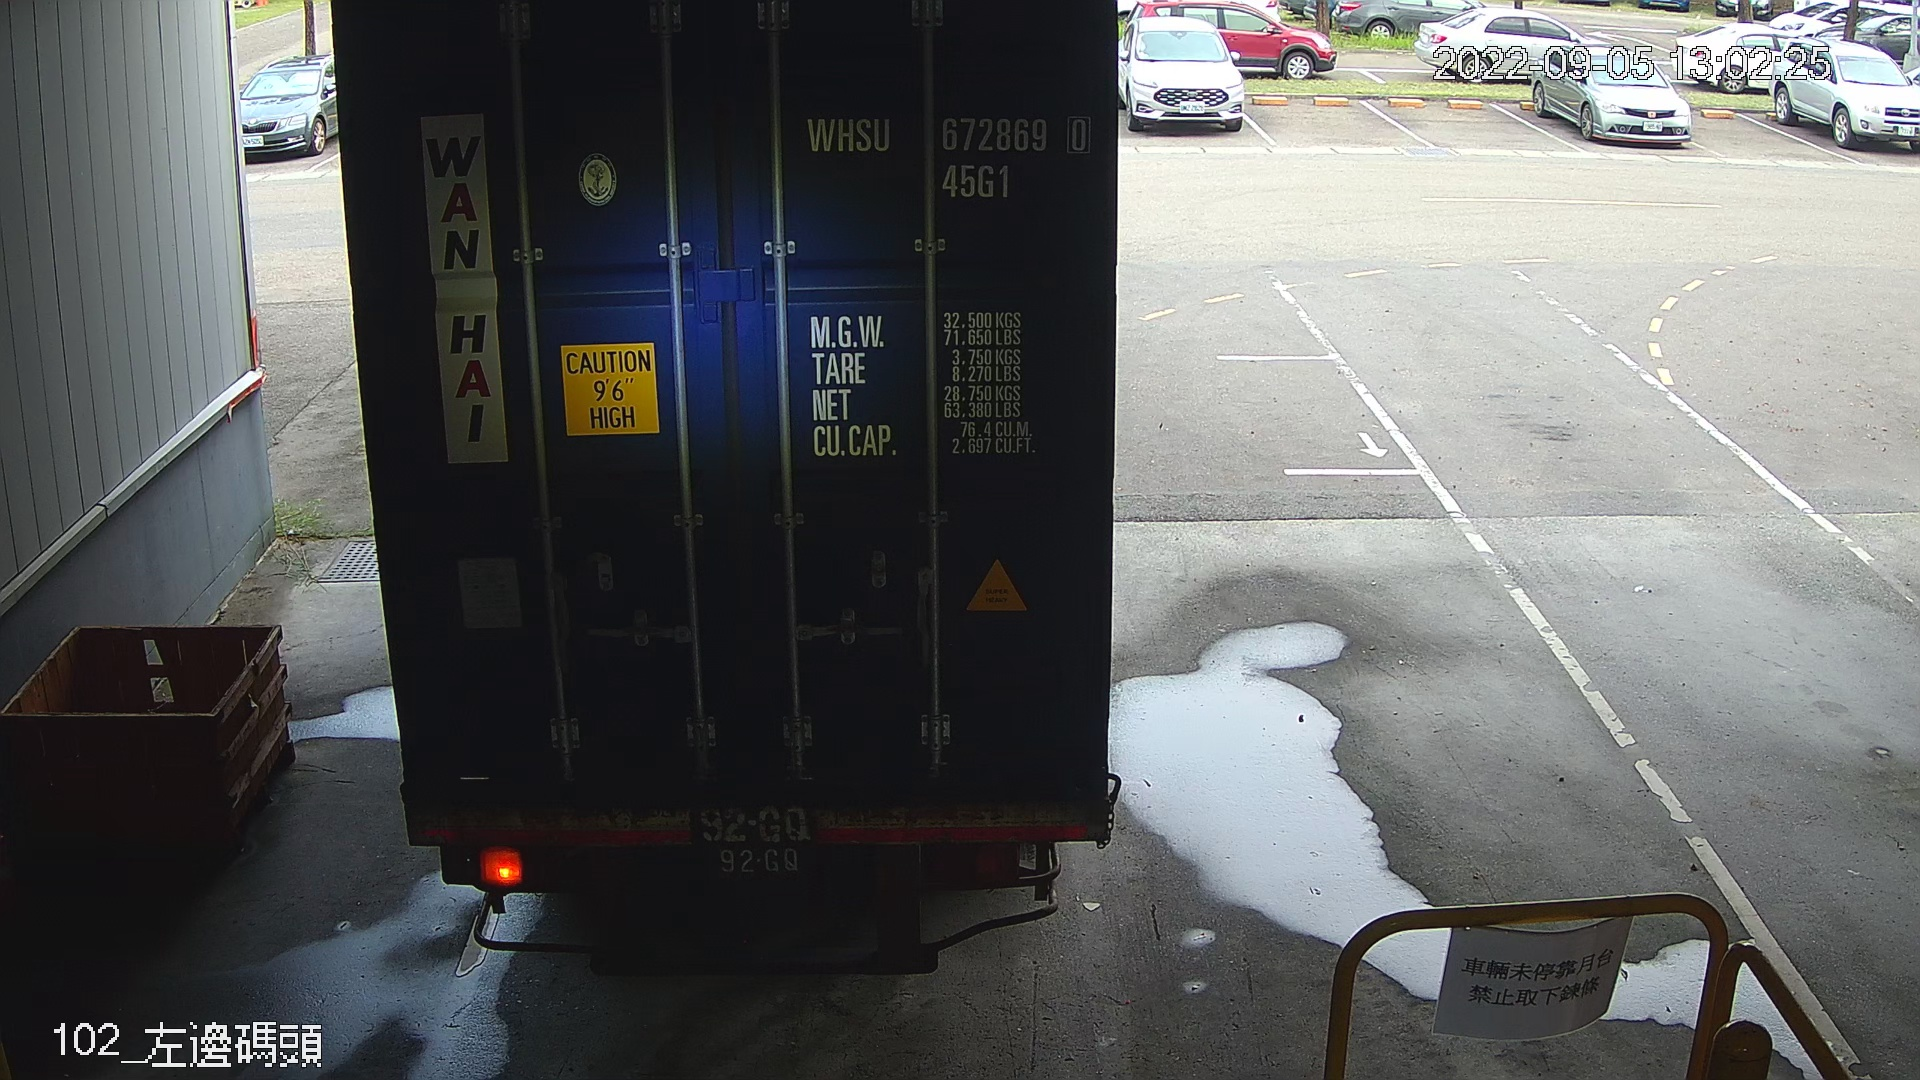container: (795, 99, 1102, 210)
